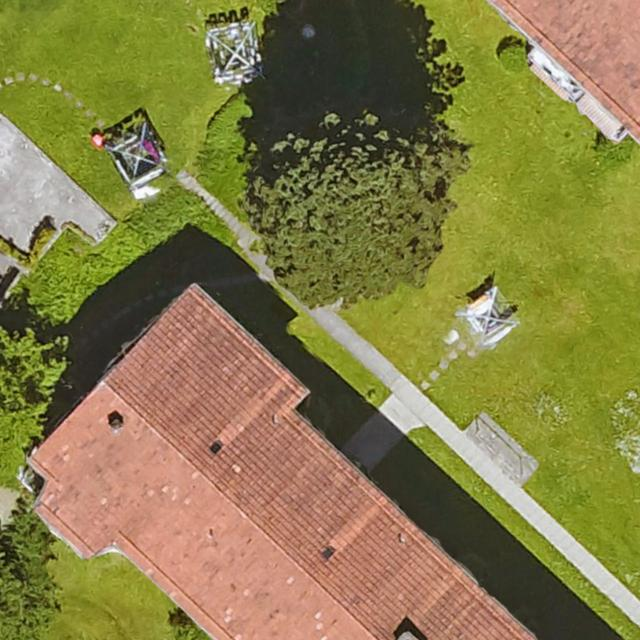tree: (252, 115, 448, 301), (0, 317, 72, 493), (0, 549, 55, 640)
